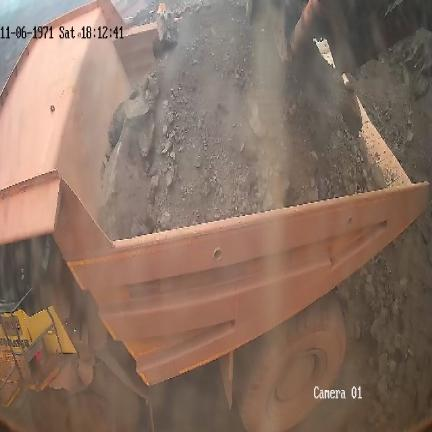pile: (92, 0, 389, 241), (338, 204, 432, 418), (358, 31, 432, 182)
